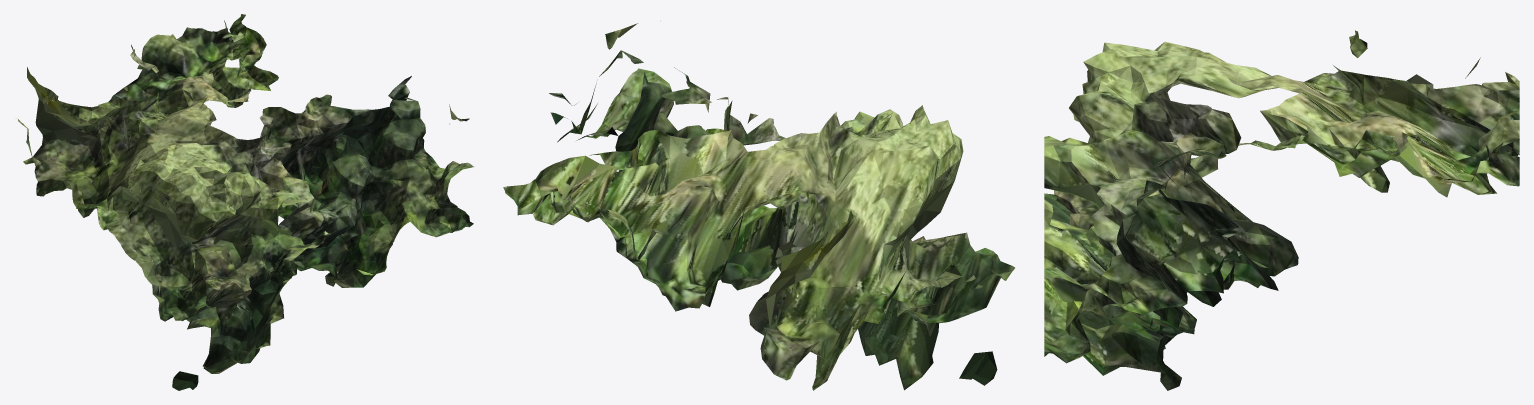
The picture shows the model from 3 angles, left to right: view 1: azimuth 30°, elevation 25°; view 2: azimuth 150°, elevation 25°; view 3: azimuth 270°, elevation 25°; orthographic projection. The views are drawn at different scales.
Bounding box in the file's own units: 26.11 × 18.16 × 26.11.
Materials: 5 (5 with a texture image).
